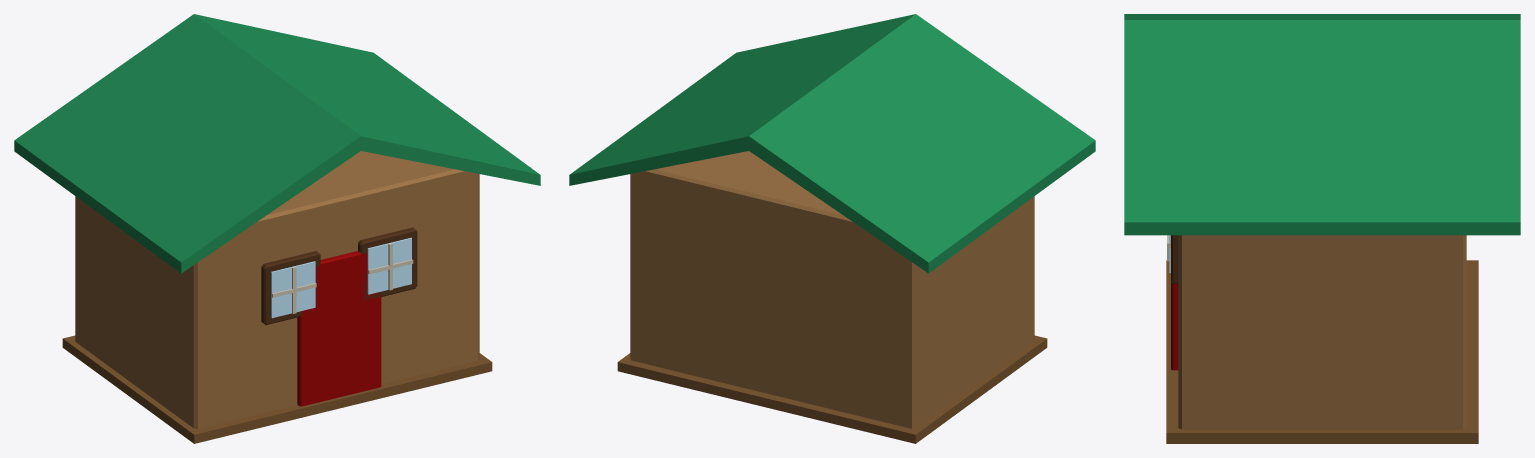
File: home_shed.glb
The picture shows the model from 3 angles, left to right: view 1: azimuth 30°, elevation 25°; view 2: azimuth 150°, elevation 25°; view 3: azimuth 270°, elevation 25°; orthographic projection. The views are drawn at different scales.
Parts seen in each view (by area): view 1: home_shed_wood, home_shed_plain, home_shed_glass; view 2: home_shed_wood, home_shed_plain; view 3: home_shed_plain, home_shed_wood.
Part boxes in pixels (x1,y1,x2,y2): home_shed_wood: (62,151,492,443); home_shed_plain: (14,14,540,273); home_shed_glass: (271,237,411,318); home_shed_wood: (617,151,1047,443); home_shed_plain: (569,14,1095,273); home_shed_plain: (1124,14,1520,235); home_shed_wood: (1166,235,1478,443).
Bounding box in the file's own units: 4.1 × 3.13 × 3.3.
